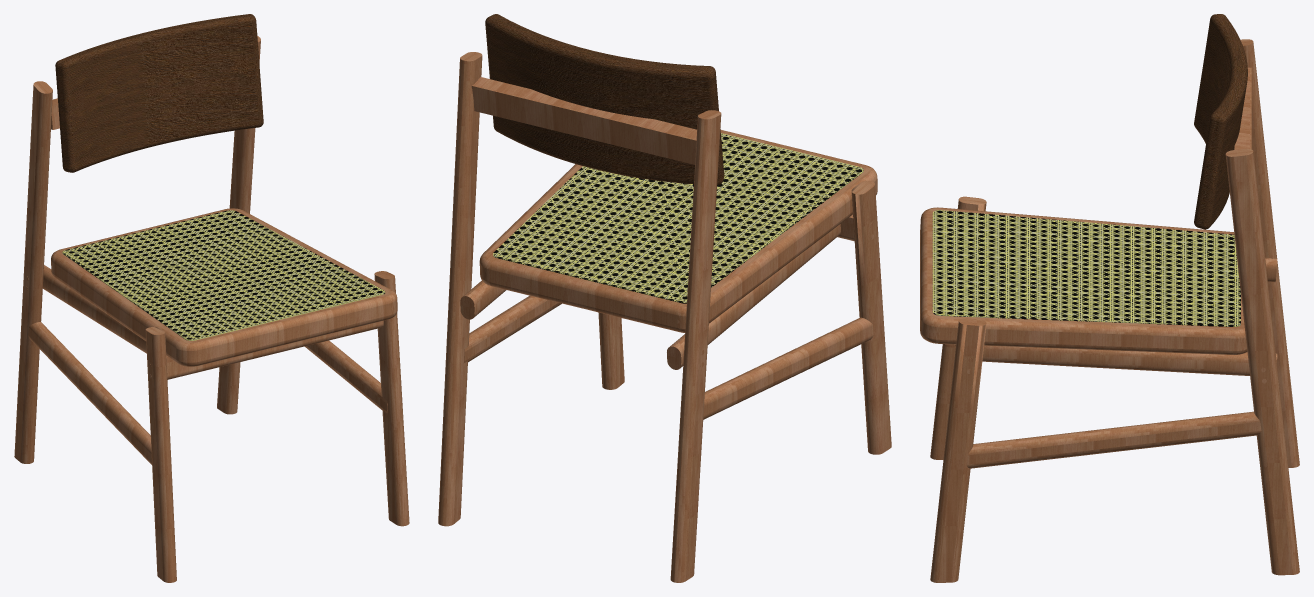
Rendered from origami-cadeira-palha.glb.
The picture shows the model from 3 angles, left to right: view 1: azimuth 30°, elevation 25°; view 2: azimuth 150°, elevation 25°; view 3: azimuth 270°, elevation 25°; orthographic projection. The views are drawn at different scales.
Visible parts, largest first — view 1: Geom3D_encosto, Geom3D_tela, Geom3D_pernas, Geom3D_assento, Geom3D_traves (×2); view 2: Geom3D_pernas, Geom3D_tela, Geom3D_encosto, Geom3D_traves (×2), Geom3D_assento; view 3: Geom3D_tela, Geom3D_pernas, Geom3D_traves (×2), Geom3D_assento, Geom3D_encosto.
Boxes of the visible parts, box(x1,y1,x2,y2) form: Geom3D_encosto: box(55, 14, 263, 172); Geom3D_tela: box(62, 210, 385, 340); Geom3D_pernas: box(14, 36, 409, 582); Geom3D_assento: box(51, 208, 397, 366); Geom3D_traves (×2): box(28, 98, 387, 464); Geom3D_pernas: box(438, 52, 891, 582); Geom3D_tela: box(493, 133, 863, 303); Geom3D_encosto: box(485, 14, 724, 185); Geom3D_traves (×2): box(460, 77, 873, 419); Geom3D_assento: box(479, 130, 877, 332); Geom3D_tela: box(932, 210, 1240, 326); Geom3D_pernas: box(930, 39, 1299, 582); Geom3D_traves (×2): box(955, 67, 1277, 468); Geom3D_assento: box(920, 207, 1247, 354); Geom3D_encosto: box(1194, 14, 1247, 229).
Size of the model in its own units: 0.493 by 0.8058 by 0.6106.
Materials: 3 (3 with a texture image).
